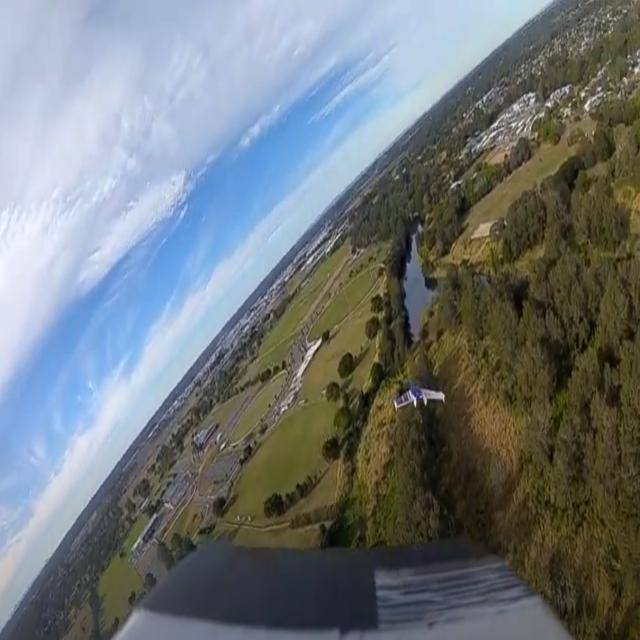iha: (393, 383, 446, 412)
